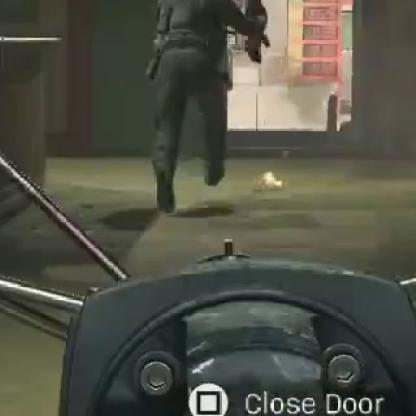enemy: (145, 1, 270, 211)
